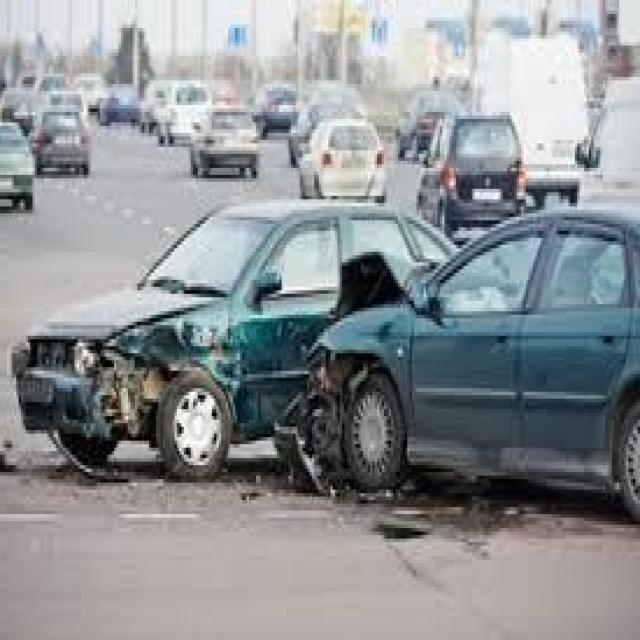multiple_accident: (54, 180, 511, 510)
